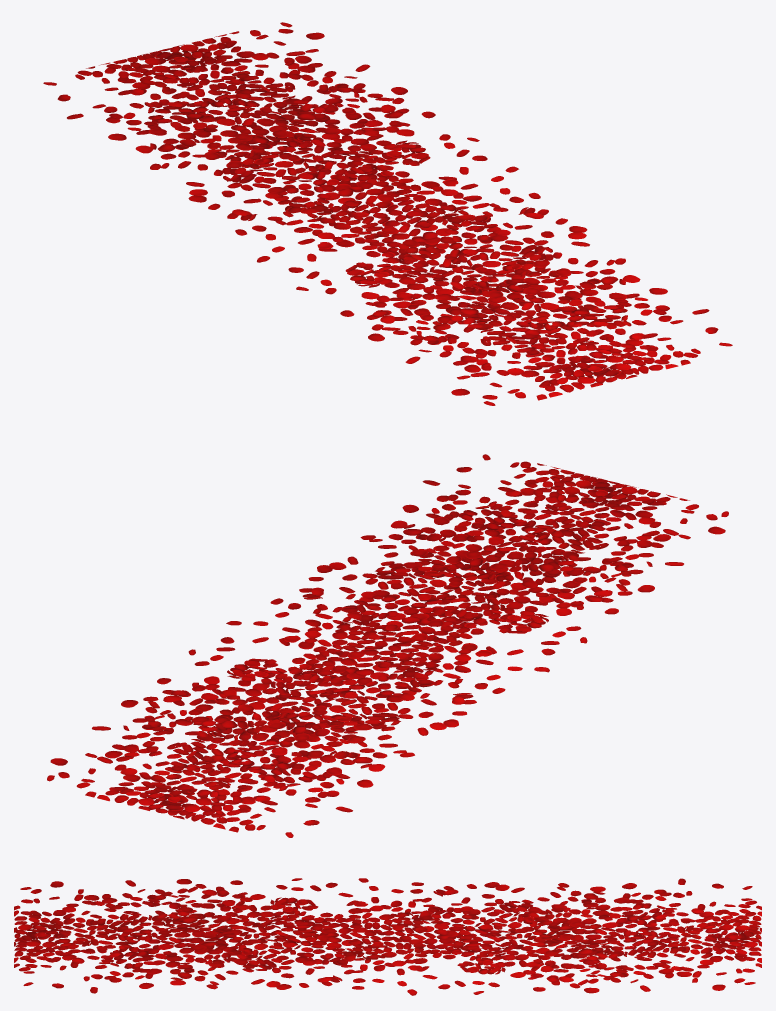
File: DecorFlowerPetals01_4.FBX
3 renders of one model, top to bottom at view 1: azimuth 30°, elevation 25°; view 2: azimuth 150°, elevation 25°; view 3: azimuth 270°, elevation 25°, orthographic. The views are drawn at different scales.
Parts seen in each view (by area): view 1: DecorFlowerPetals01_4; view 2: DecorFlowerPetals01_4; view 3: DecorFlowerPetals01_4.
Part boxes in pixels (x1,y1,x2,y2): DecorFlowerPetals01_4: [43, 22, 732, 405]; DecorFlowerPetals01_4: [47, 454, 728, 837]; DecorFlowerPetals01_4: [14, 878, 761, 995].
Size of what is drawn, in the model's own units: 1.5 by 0.00848 by 4.
